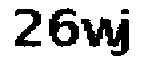2: (9, 6, 44, 54)
6: (44, 3, 82, 55)
j: (115, 9, 137, 60)
w: (79, 17, 122, 50)
